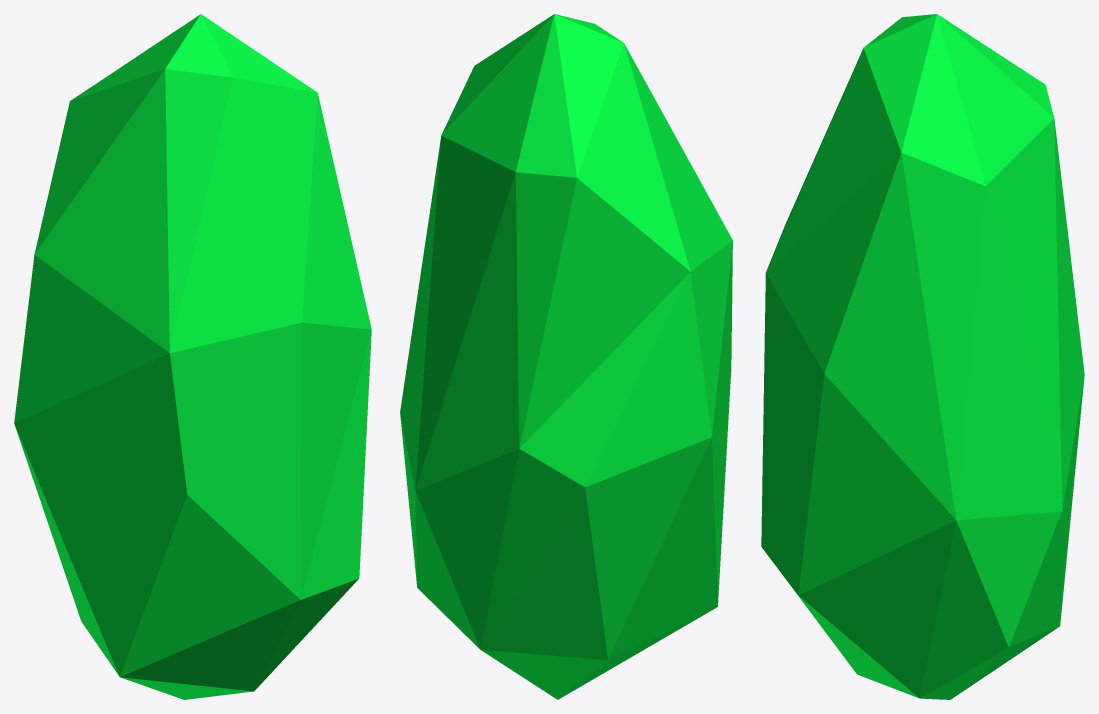
Rendered from Crystal_020.fbx.
3 renders of one model, left to right at view 1: azimuth 30°, elevation 25°; view 2: azimuth 150°, elevation 25°; view 3: azimuth 270°, elevation 25°, orthographic.
Visible parts, largest first — view 1: Crystal.020; view 2: Crystal.020; view 3: Crystal.020.
Boxes of the visible parts, <box> form: Crystal.020: <box>14,14,371,699</box>; Crystal.020: <box>400,14,732,699</box>; Crystal.020: <box>761,14,1084,699</box>.
Size of the model in its own units: 198 by 408 by 173.
